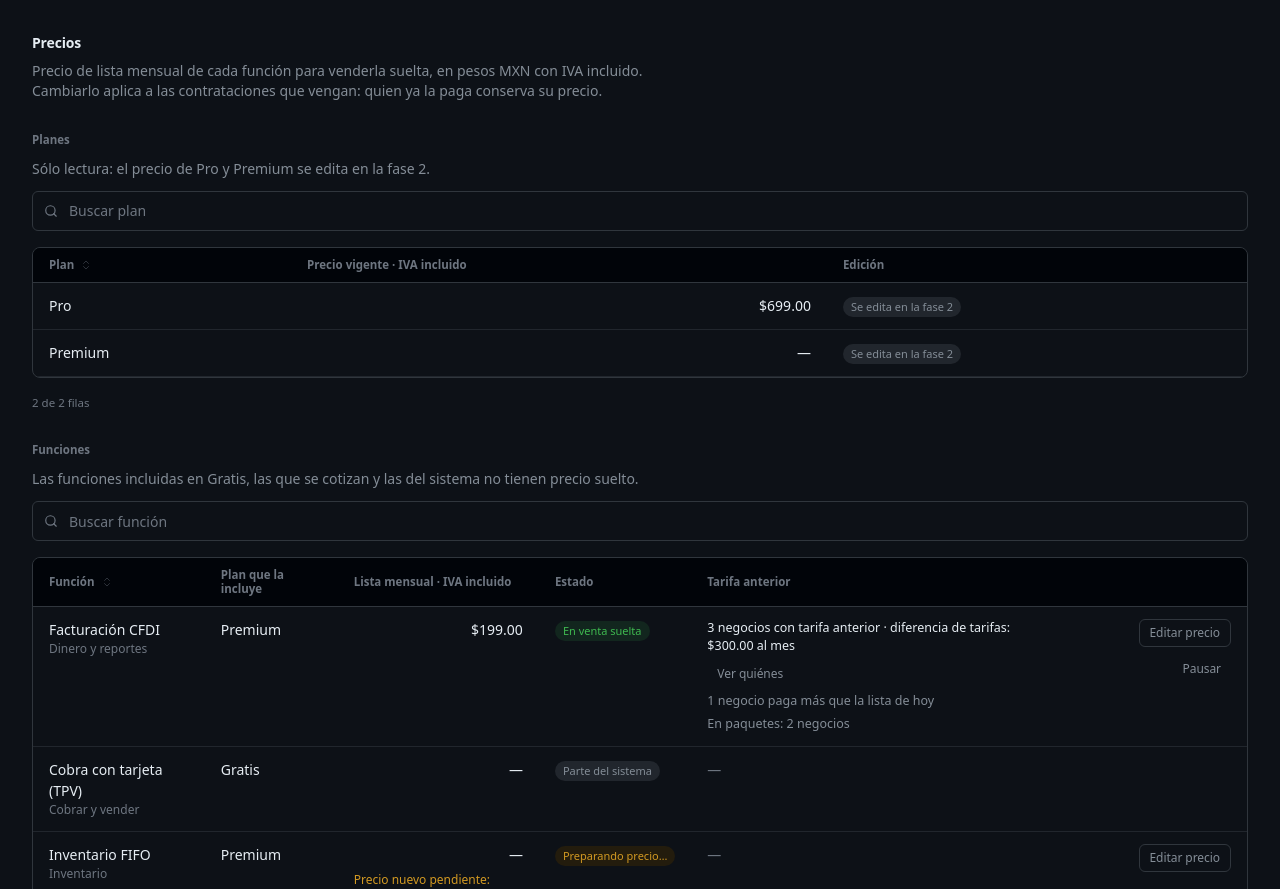
Test: PricingPage › a first price reads «Sin precio actual → Nuevo»
Expected: the text "Facturación CFDI" is shown, x1=49 y1=620 x2=160 y2=639
Step 1. Click the button with aria-label "Editar precio de Inventario FIFO" → (1185, 858), box x1=1138 y1=844 x2=1231 y2=872
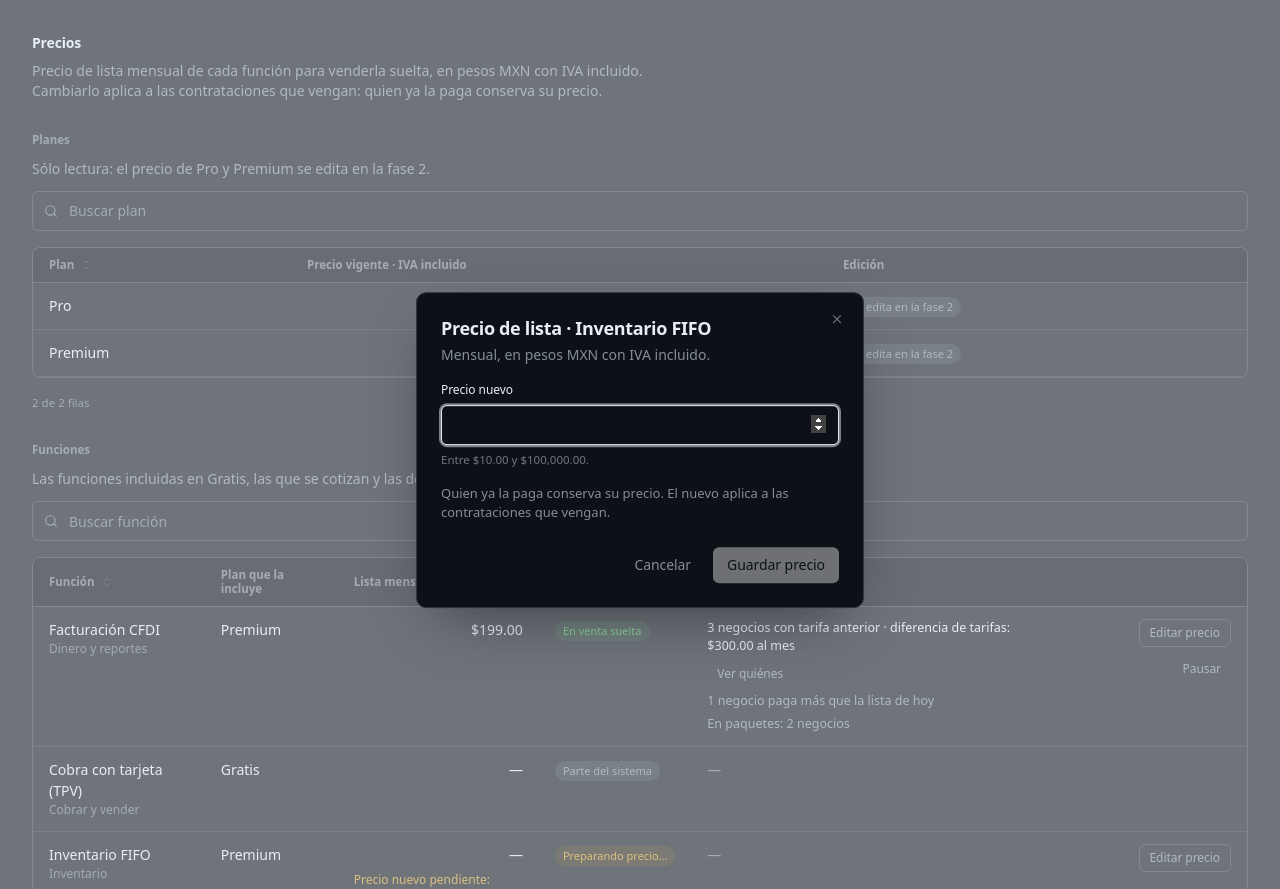
Step 2. Type "249" into the number field labelled "Precio nuevo" → (640, 425), box x1=441 y1=405 x2=839 y2=445
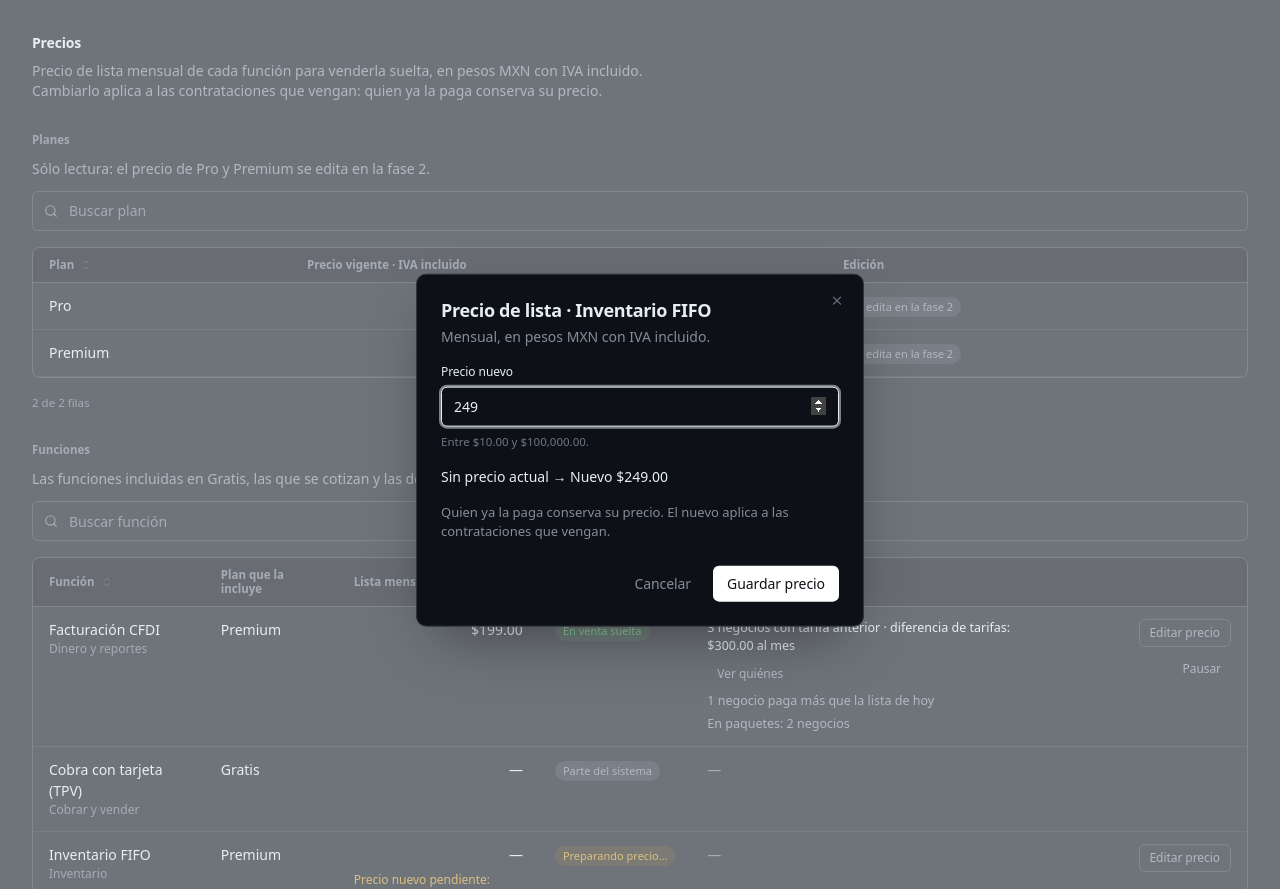
Result: the text "Sin precio actual → Nuevo $249.00" is shown at x1=441 y1=466 x2=668 y2=485
